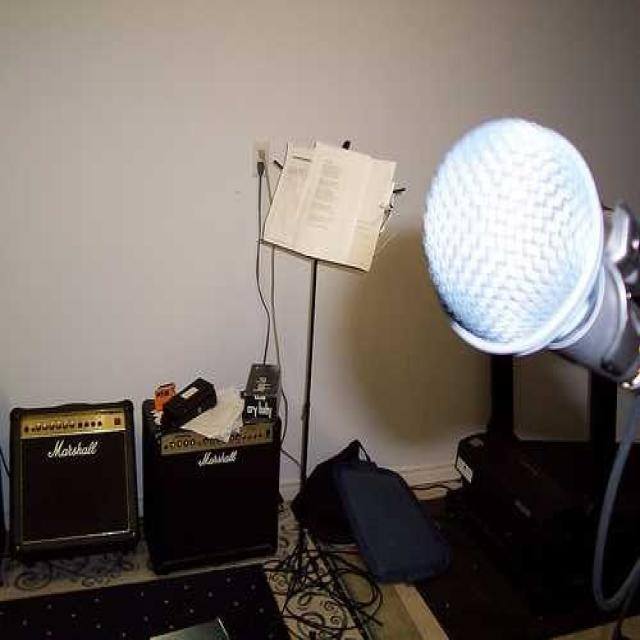microphone: (425, 116, 637, 389)
